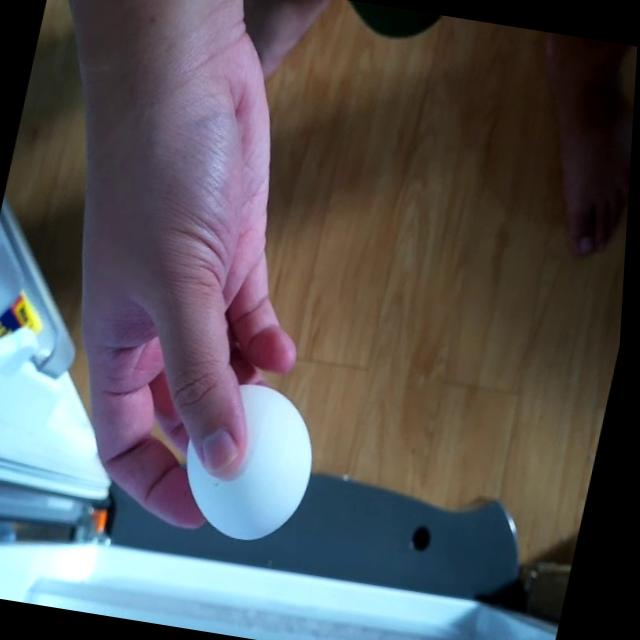egg: (171, 372, 334, 552)
